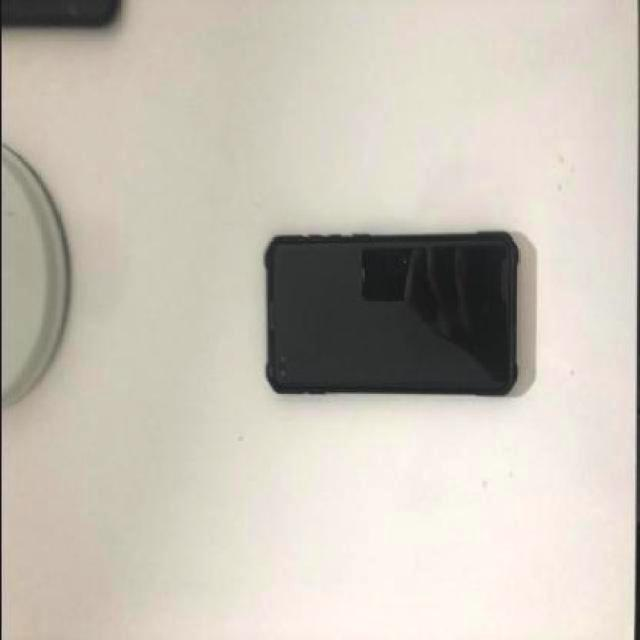phone: (262, 234, 518, 398)
